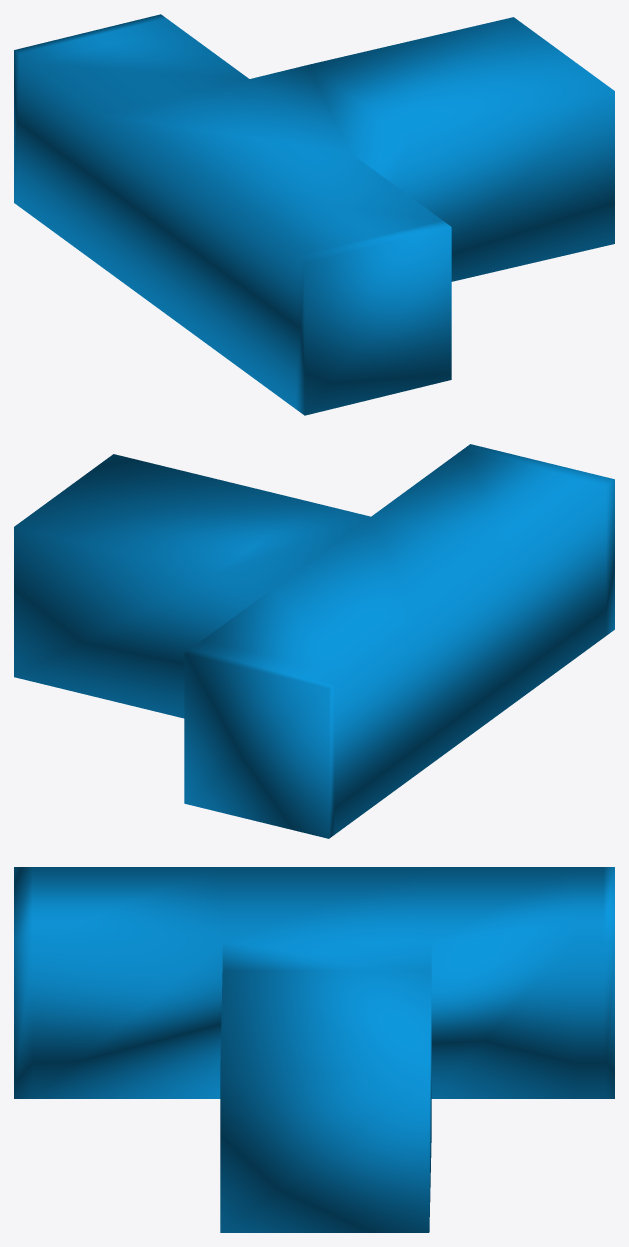
File: corridor.obj
3 views of the same model, one above another, from view 1: azimuth 30°, elevation 25°; view 2: azimuth 150°, elevation 25°; view 3: azimuth 270°, elevation 25° (orthographic). The views are drawn at different scales.
Size of the model in its own units: 9.35 by 3.36 by 11.49.
